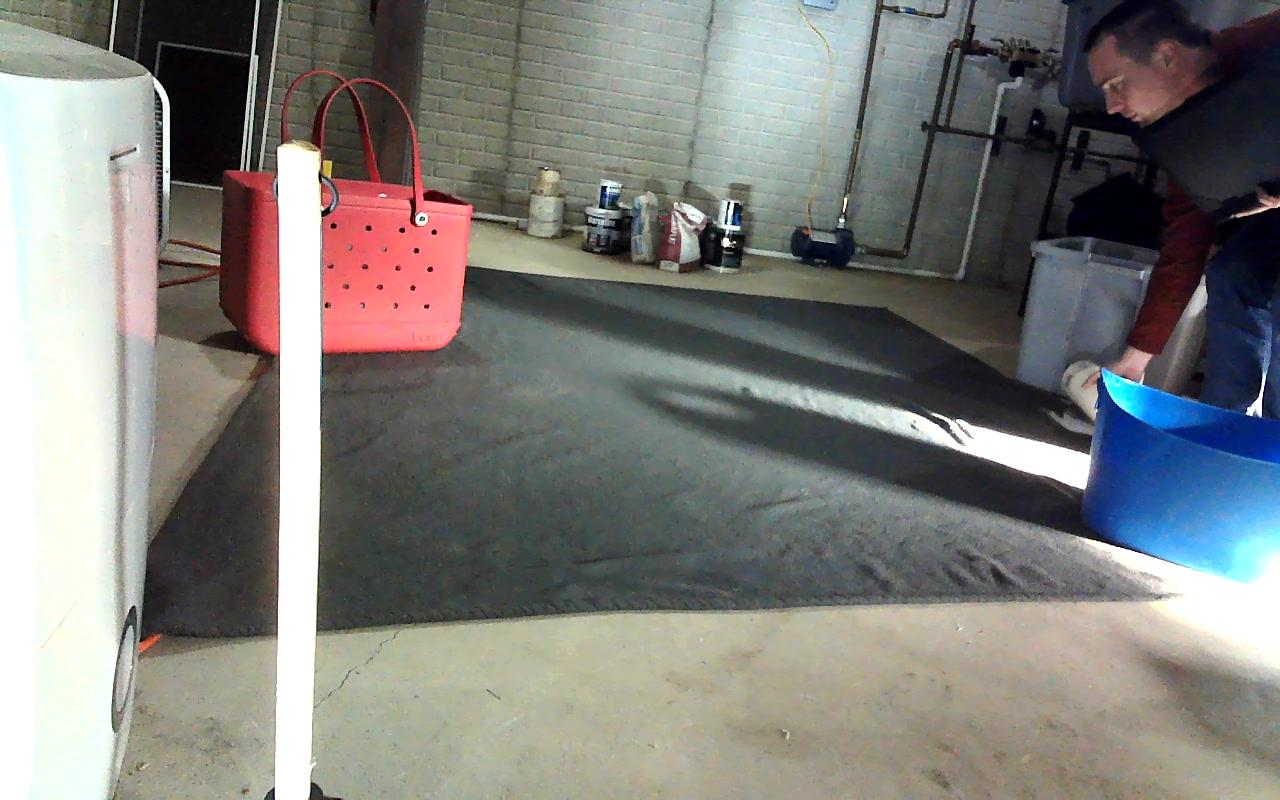coral: (1062, 361, 1150, 420)
